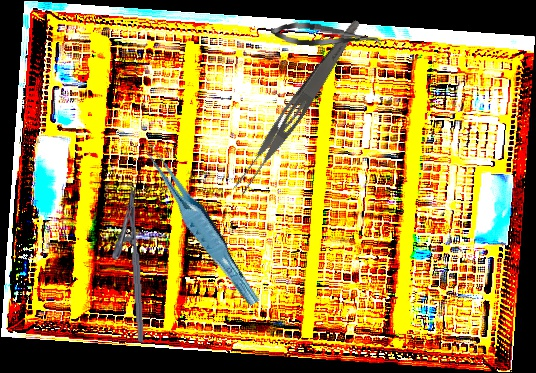Dressing Forceps: (229, 13, 365, 199)
Micro Scissor: (270, 20, 383, 52)
Needle Holder: (108, 186, 145, 344)
Tissue Forceps: (142, 136, 261, 314)
